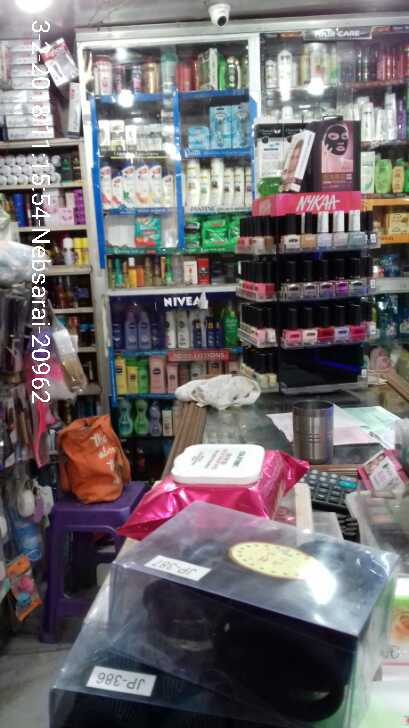venus: (210, 105, 230, 148), (230, 105, 248, 148), (189, 125, 210, 151)
